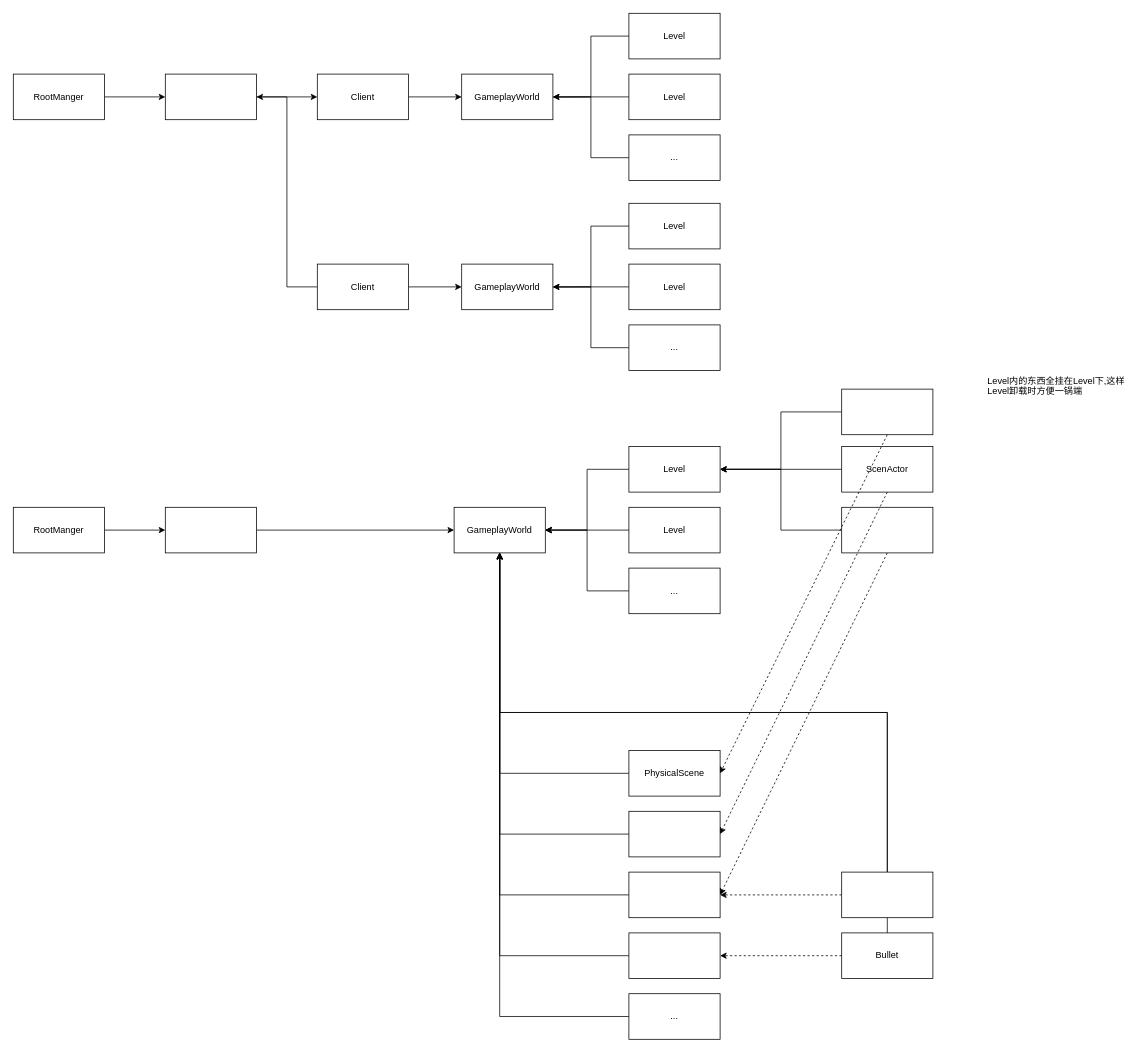
This 1144x1053 diagram has some shape labels left out. Each missing label, with the box of its shape:
BulletManager: (628, 932, 720, 978)
Level_PhysicalData: (841, 388, 933, 435)
Main: (165, 73, 256, 120)
Map: (165, 507, 256, 553)
ScenActorManager: (628, 811, 720, 857)
Unit(Character): (841, 871, 933, 918)
Unit(NPC): (841, 507, 933, 553)
UnitManager: (628, 871, 720, 918)
